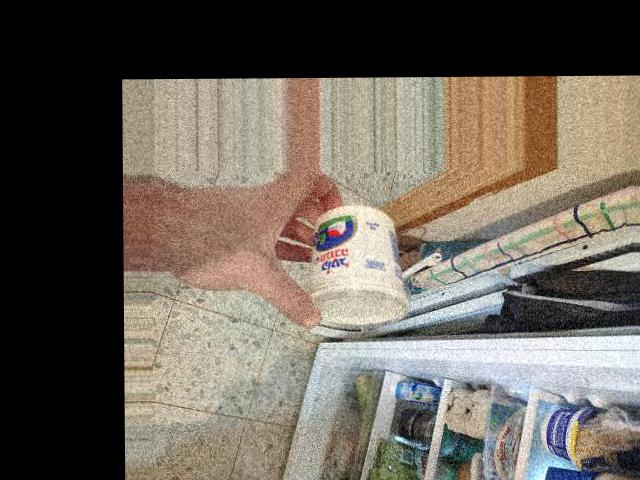cotage: (301, 200, 409, 326)
